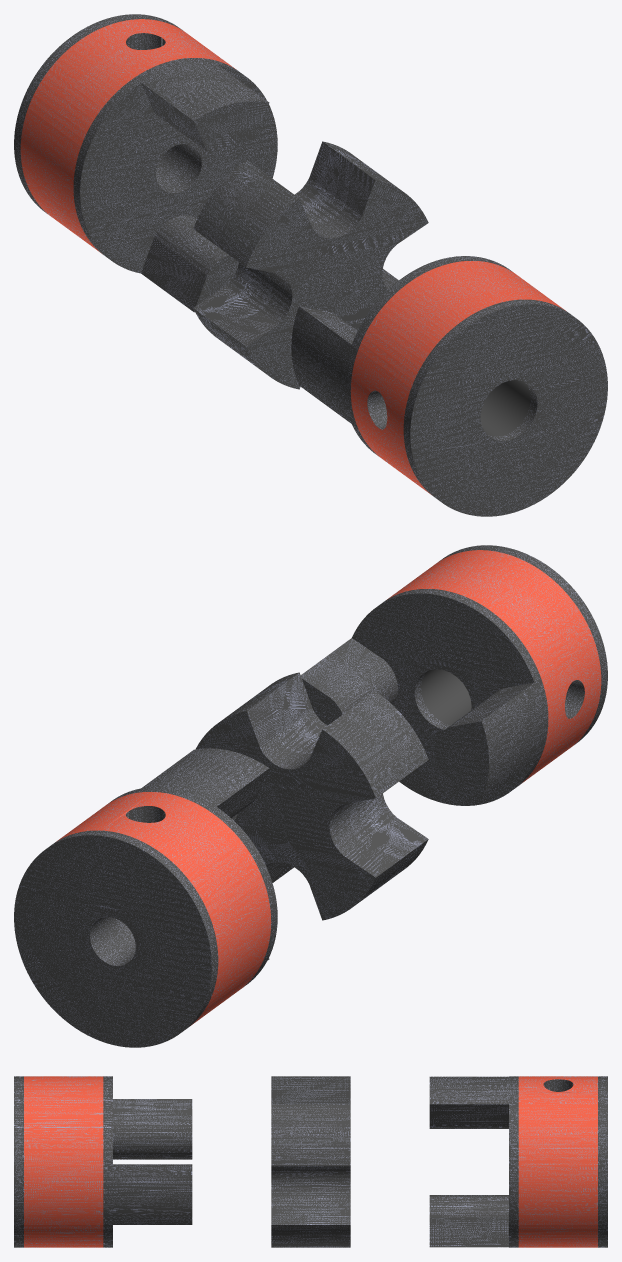
3 renders of one model, top to bottom at view 1: azimuth 30°, elevation 25°; view 2: azimuth 150°, elevation 25°; view 3: azimuth 270°, elevation 25°, orthographic. The views are drawn at different scales.
Visible parts, largest first — view 1: SketchUp (×9); view 2: SketchUp (×9); view 3: SketchUp (×8).
Part boxes in pixels (left/top/right/bottom): SketchUp (×9): left=14, top=14, right=607, bottom=516; SketchUp (×9): left=14, top=545, right=607, bottom=1047; SketchUp (×8): left=14, top=1076, right=607, bottom=1247.
Bounding box in the file's own units: 1.08 × 3.75 × 1.08.
